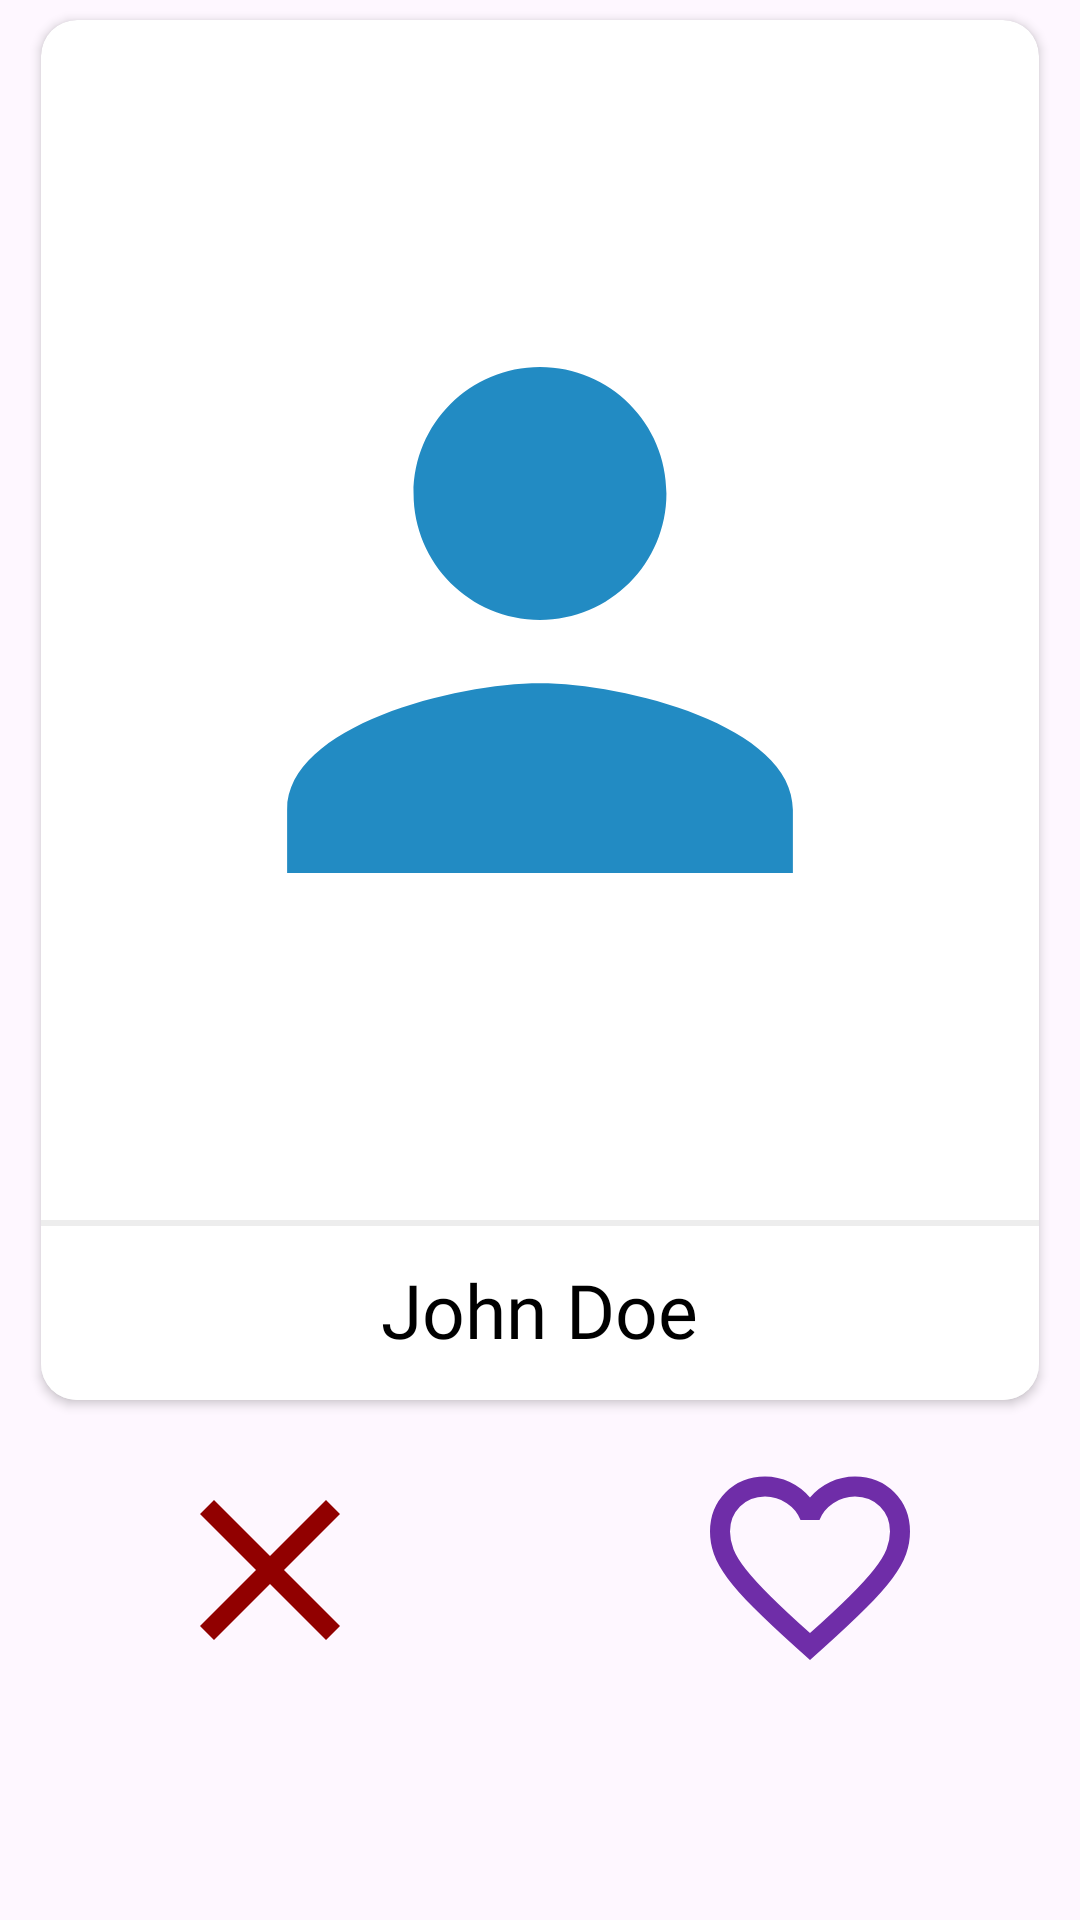

Icon bounding boxes for this 1080×1920 phone screenshot, format (x1, y1, x2, y2):
dislike match: (200, 1500, 340, 1640)
like match: (710, 1476, 910, 1660)
